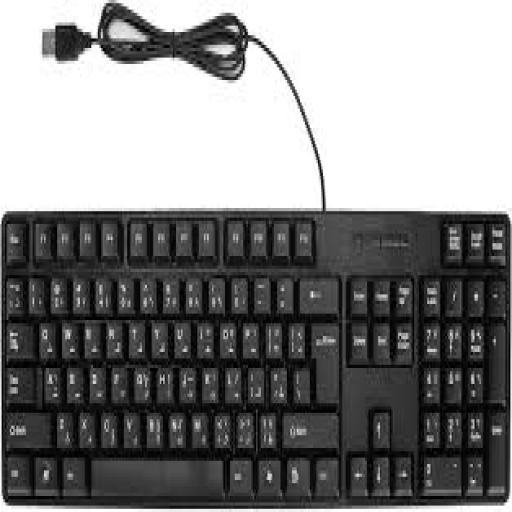keyboard: (0, 214, 510, 502)
